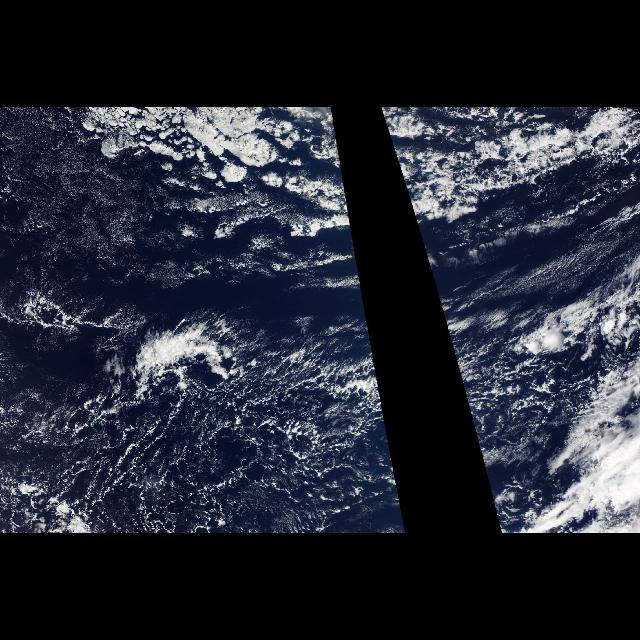Flower: (90, 107, 362, 289), (378, 107, 640, 289)
Gravel: (0, 326, 408, 534), (447, 326, 573, 534)
Sugar: (2, 115, 312, 291)
